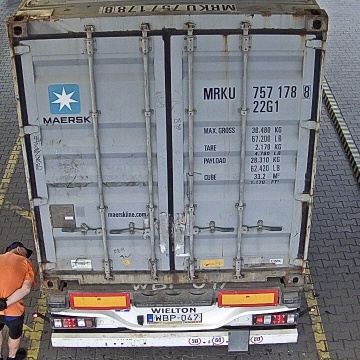serial_id: (204, 84, 311, 99)
